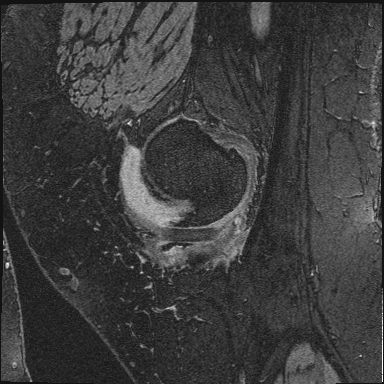effusion: (123, 150, 149, 229)
